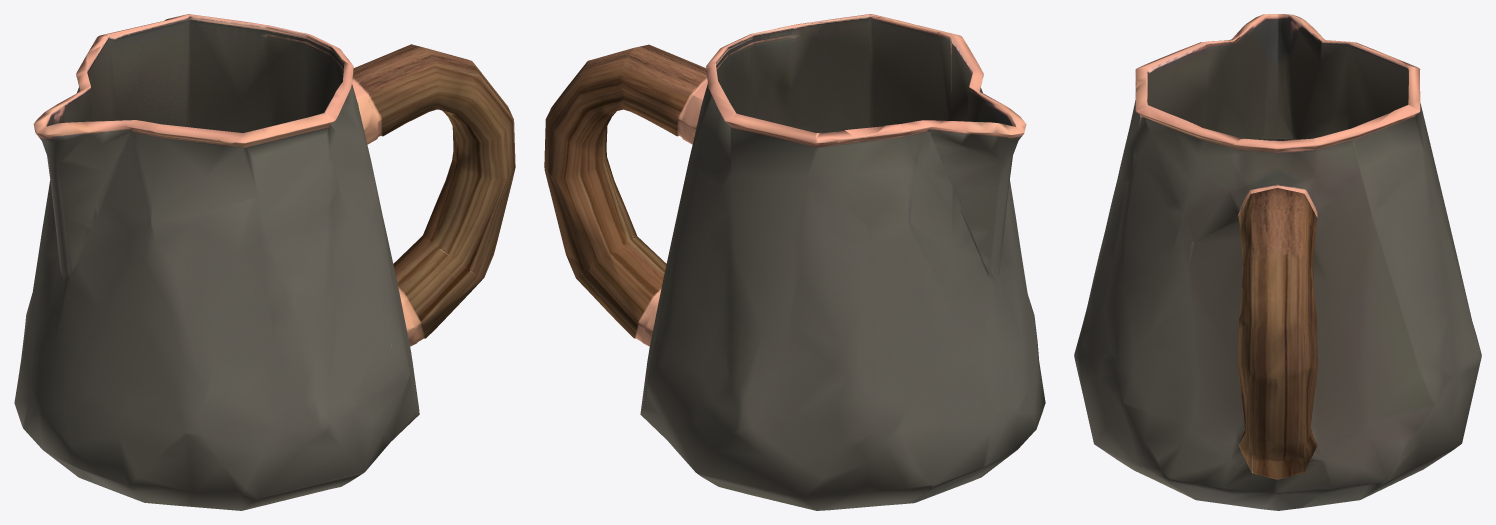
Rendered from milk_pitcher.glb.
The picture shows the model from 3 angles, left to right: view 1: azimuth 30°, elevation 25°; view 2: azimuth 150°, elevation 25°; view 3: azimuth 270°, elevation 25°; orthographic projection. The views are drawn at different scales.
Parts seen in each view (by area): view 1: Mesh1.0; view 2: Mesh1.0; view 3: Mesh1.0.
Boxes of the visible parts, box(x1,y1,x2,y2) form: Mesh1.0: box(14, 14, 515, 510); Mesh1.0: box(544, 14, 1045, 510); Mesh1.0: box(1074, 14, 1481, 510).
Bounding box in the file's own units: 1.49 × 1.12 × 1.14.
1 material, 1 textured.
